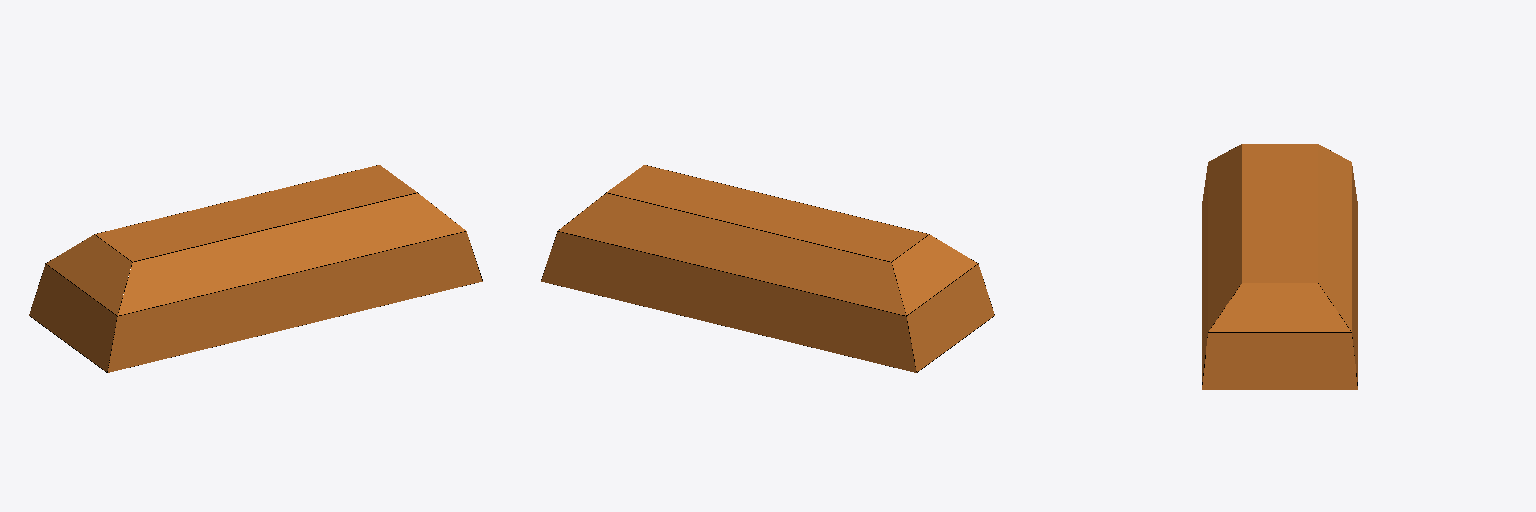
3 views of the same model, side by side, from view 1: azimuth 30°, elevation 25°; view 2: azimuth 150°, elevation 25°; view 3: azimuth 270°, elevation 25° (orthographic).
Visible parts, largest first — view 1: copper_ingot_Cube; view 2: copper_ingot_Cube; view 3: copper_ingot_Cube.
Boxes of the visible parts, x1,y1,x2,y2 form: copper_ingot_Cube: [29, 165, 482, 372]; copper_ingot_Cube: [541, 165, 994, 372]; copper_ingot_Cube: [1202, 144, 1357, 389].
Bounding box in the file's own units: 1.43 × 0.3098 × 0.5163.
1 materials, 1 textured.